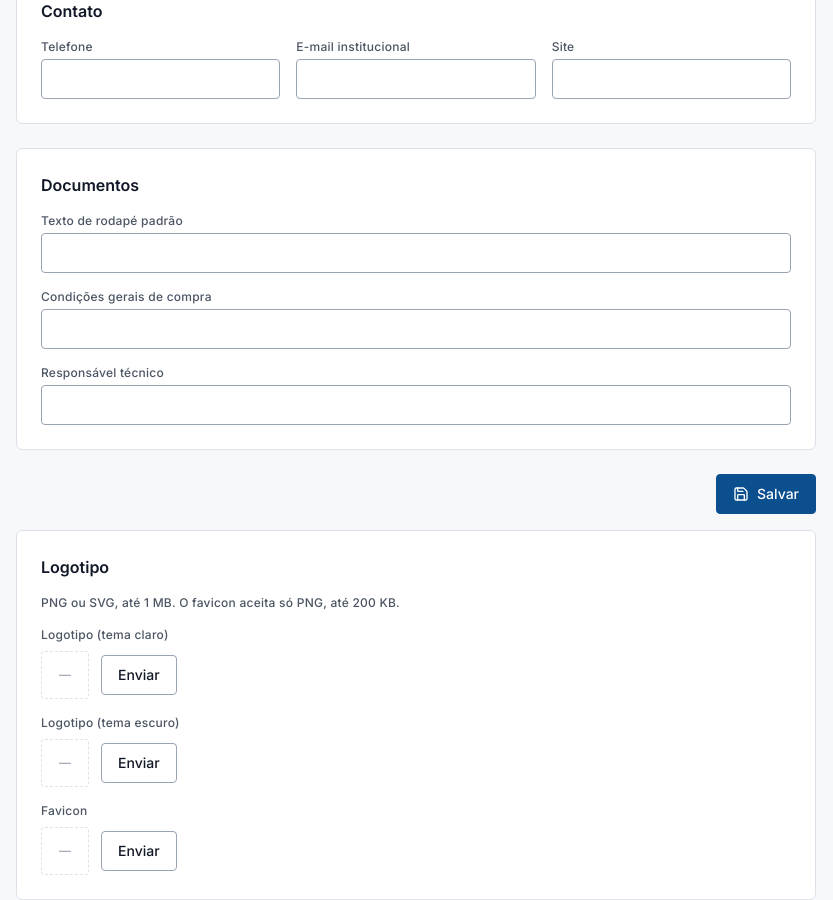
Test case: DadosEmpresaPagina › erro de validacao do backend marca o campo certo
The image size is (833, 900).
(page scrolled)
Click the button "Salvar": (766, 494) [716,474,816,514]
(page scrolled)
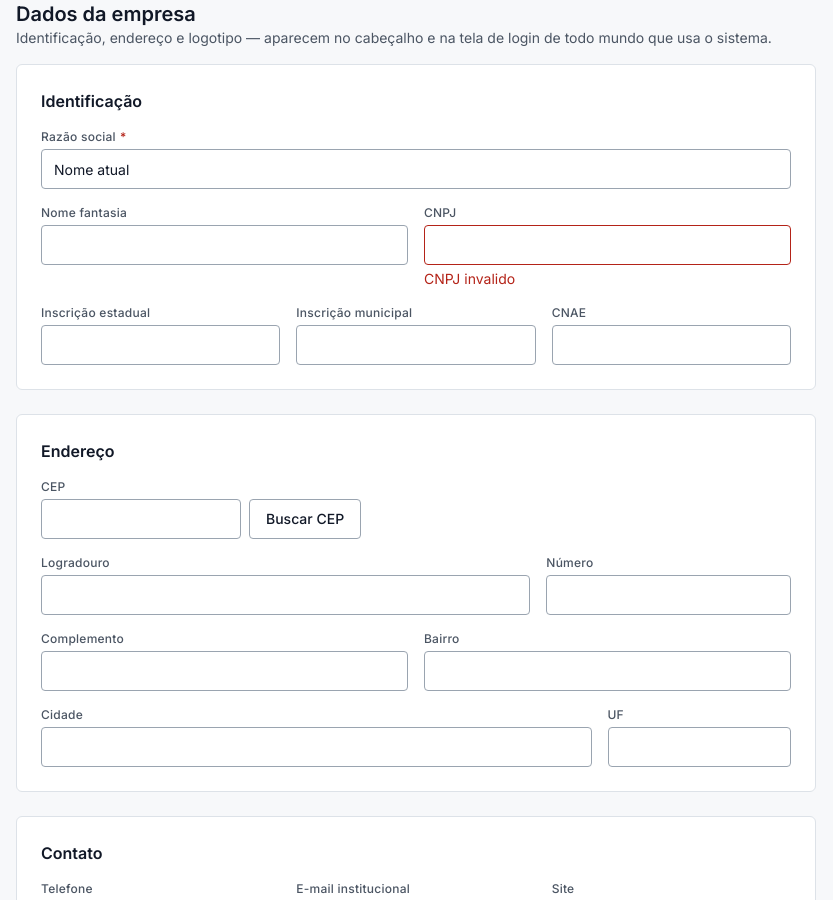
Result: the text "CNPJ invalido" is shown at [424,270,515,287]
